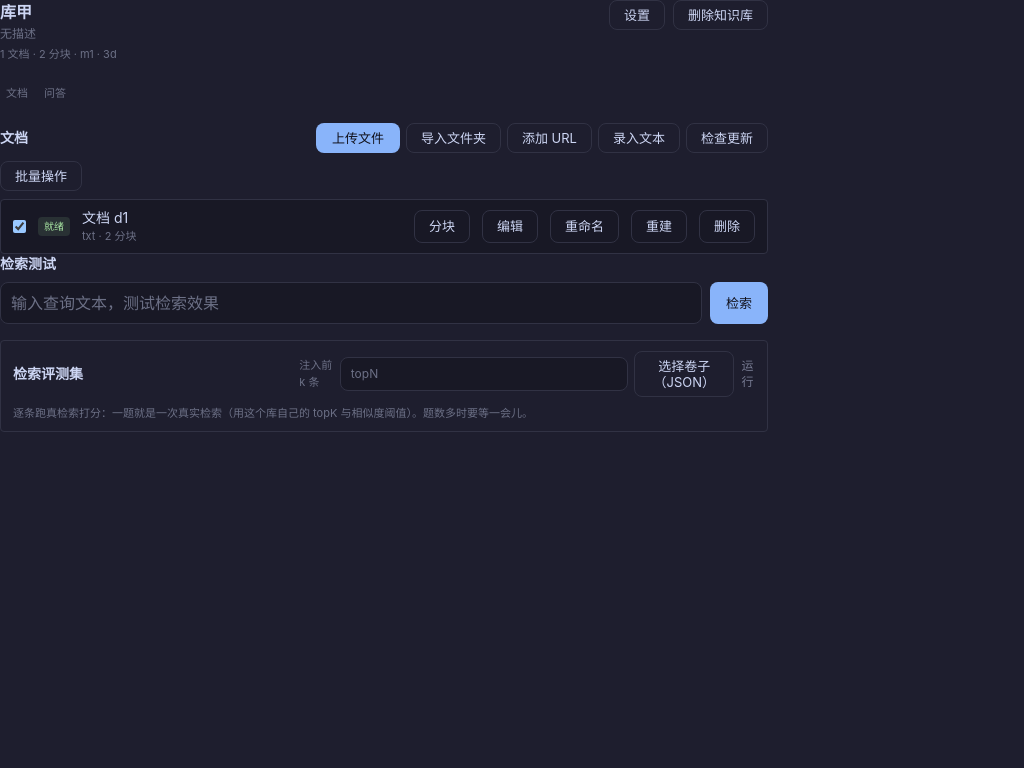
it: K1 文档重命名：失败不许演成功 › 那一发回 {ok:false} ⇒ 说原因、弹窗不关、不报「已重命名」
Expected: the text "文档 d1" is shown, [82,209,128,226]
Click the button "重命名" at (584,226), box [550,210,619,243]
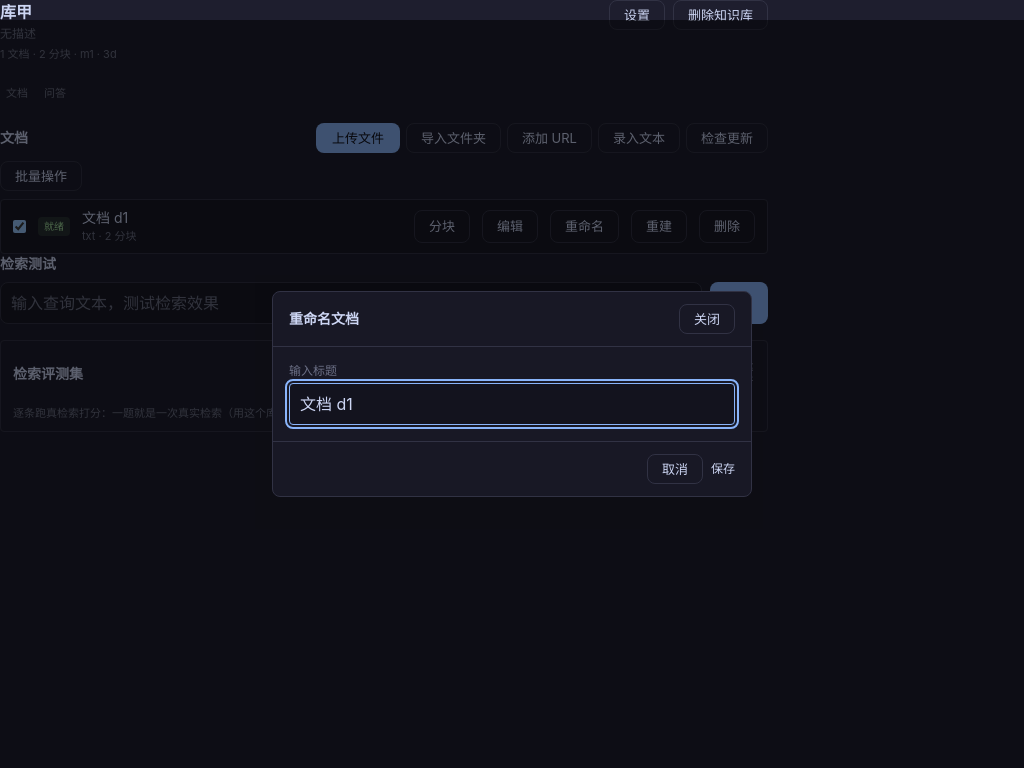
Now the heading "重命名文档" is shown, box [289,309,359,329]
Click the button "保存" at (723,469), box [711,454,735,484]
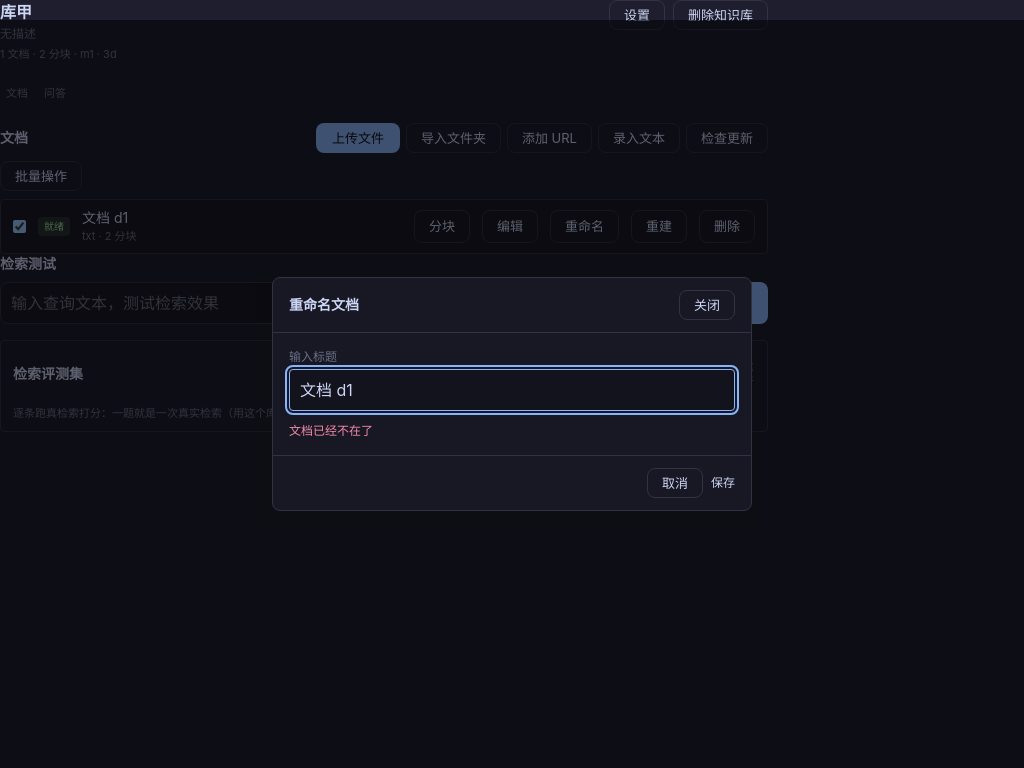
Now the heading "重命名文档" is shown, box [289,295,359,315]
Now the text "文档已经不在了" is shown, box [289,423,373,438]
